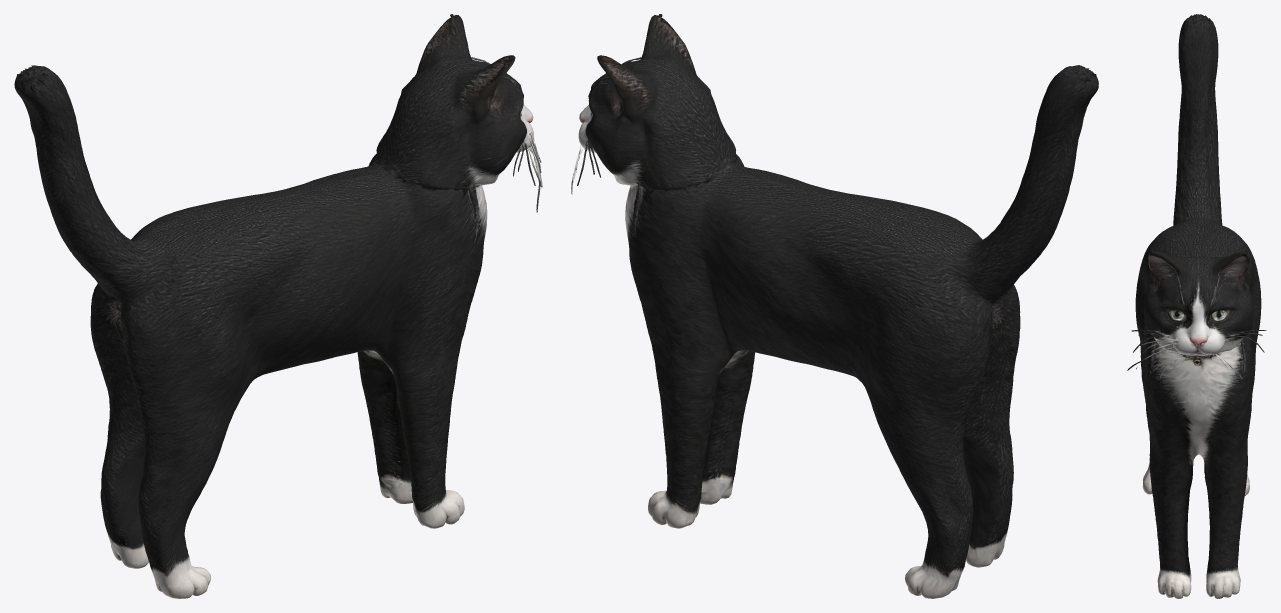
Rendered from HODGESE1.glb.
3 views of the same model, side by side, from view 1: azimuth 30°, elevation 25°; view 2: azimuth 150°, elevation 25°; view 3: azimuth 270°, elevation 25° (orthographic). The views are drawn at different scales.
Parts seen in each view (by area): view 1: tripo_node_b8ccac4c-5d54-4a3b-8f85-c82cac31a285; view 2: tripo_node_b8ccac4c-5d54-4a3b-8f85-c82cac31a285; view 3: tripo_node_b8ccac4c-5d54-4a3b-8f85-c82cac31a285.
Part boxes in pixels (bbox=[...]): tripo_node_b8ccac4c-5d54-4a3b-8f85-c82cac31a285: bbox=[14, 14, 542, 598]; tripo_node_b8ccac4c-5d54-4a3b-8f85-c82cac31a285: bbox=[571, 14, 1098, 598]; tripo_node_b8ccac4c-5d54-4a3b-8f85-c82cac31a285: bbox=[1127, 14, 1266, 598].
Size of the model in its own units: 0.9963 by 0.9999 by 0.2949.
1 material, 1 textured.
